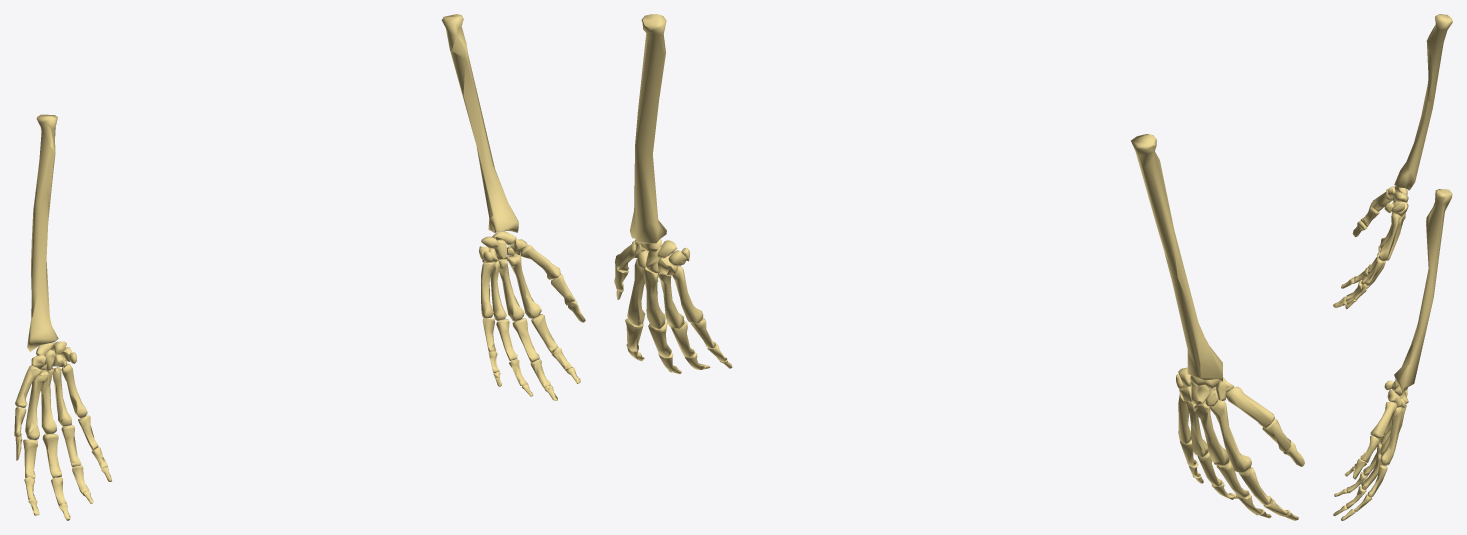
Rendered from wrist-hand-4ZEZ7TOJ.glb.
3 renders of one model, left to right at view 1: azimuth 30°, elevation 25°; view 2: azimuth 150°, elevation 25°; view 3: azimuth 270°, elevation 25°, orthographic. The views are drawn at different scales.
Parts seen in each view (by area): view 1: wrist-hand:radius:isa:FJ3349, wrist-hand:radius:isa:FJ3277, wrist-hand:second-metacarpal-bone:isa:FJ3352, wrist-hand:second-metacarpal-bone:isa:FJ3243, wrist-hand:third-metacarpal-bone:isa:FJ3246, wrist-hand:third-metacarpal-bone:isa:FJ3354; view 2: wrist-hand:radius:isa:FJ3277, wrist-hand:radius:isa:FJ3349, wrist-hand:second-metacarpal-bone:isa:FJ3352, wrist-hand:third-metacarpal-bone:isa:FJ3354, wrist-hand:first-metacarpal-bone:isa:FJ3350, wrist-hand:third-metacarpal-bone:isa:FJ3246; view 3: wrist-hand:radius:isa:FJ3277, wrist-hand:radius:isa:FJ3349, wrist-hand:second-metacarpal-bone:isa:FJ3243, wrist-hand:first-metacarpal-bone:isa:FJ3240, wrist-hand:fifth-metacarpal-bone:isa:FJ3358, wrist-hand:first-metacarpal-bone:isa:FJ3350, wrist-hand:proximal-phalanx-of-index-finger:isa:FJ3313, wrist-hand:proximal-phalanx-of-middle-finger:isa:FJ3316, wrist-hand:proximal-phalanx-of-thumb:isa:FJ3318, wrist-hand:proximal-phalanx-of-thumb:isa:FJ3327, wrist-hand:proximal-phalanx-of-ring-finger:isa:FJ3317, wrist-hand:fourth-metacarpal-bone:isa:FJ3356 (+2 smaller).
Boxes of the visible parts, box(x1,y1,x2,y2) form: wrist-hand:radius:isa:FJ3349: box(27, 114, 58, 351); wrist-hand:radius:isa:FJ3277: box(441, 14, 518, 232); wrist-hand:second-metacarpal-bone:isa:FJ3352: box(25, 370, 48, 439); wrist-hand:second-metacarpal-bone:isa:FJ3243: box(506, 253, 541, 318); wrist-hand:third-metacarpal-bone:isa:FJ3246: box(498, 259, 524, 321); wrist-hand:third-metacarpal-bone:isa:FJ3354: box(41, 369, 56, 434); wrist-hand:radius:isa:FJ3277: box(630, 14, 666, 243); wrist-hand:radius:isa:FJ3349: box(1131, 134, 1222, 381); wrist-hand:second-metacarpal-bone:isa:FJ3352: box(1209, 399, 1251, 472); wrist-hand:third-metacarpal-bone:isa:FJ3354: box(1193, 401, 1229, 465); wrist-hand:first-metacarpal-bone:isa:FJ3350: box(1226, 386, 1274, 428); wrist-hand:third-metacarpal-bone:isa:FJ3246: box(643, 267, 665, 328); wrist-hand:radius:isa:FJ3277: box(1394, 189, 1452, 392); wrist-hand:radius:isa:FJ3349: box(1394, 14, 1452, 190); wrist-hand:second-metacarpal-bone:isa:FJ3243: box(1380, 407, 1402, 465); wrist-hand:first-metacarpal-bone:isa:FJ3240: box(1370, 401, 1397, 438); wrist-hand:fifth-metacarpal-bone:isa:FJ3358: box(1379, 213, 1399, 260); wrist-hand:first-metacarpal-bone:isa:FJ3350: box(1370, 189, 1392, 211); wrist-hand:proximal-phalanx-of-index-finger:isa:FJ3313: box(1367, 464, 1387, 497); wrist-hand:proximal-phalanx-of-middle-finger:isa:FJ3316: box(1361, 453, 1381, 489); wrist-hand:proximal-phalanx-of-thumb:isa:FJ3318: box(1360, 436, 1379, 462); wrist-hand:proximal-phalanx-of-thumb:isa:FJ3327: box(1360, 205, 1379, 227); wrist-hand:proximal-phalanx-of-ring-finger:isa:FJ3317: box(1363, 442, 1381, 476); wrist-hand:fourth-metacarpal-bone:isa:FJ3356: box(1384, 214, 1402, 260).
Size of the model in its own units: 0.6478 by 0.382 by 0.1343.
